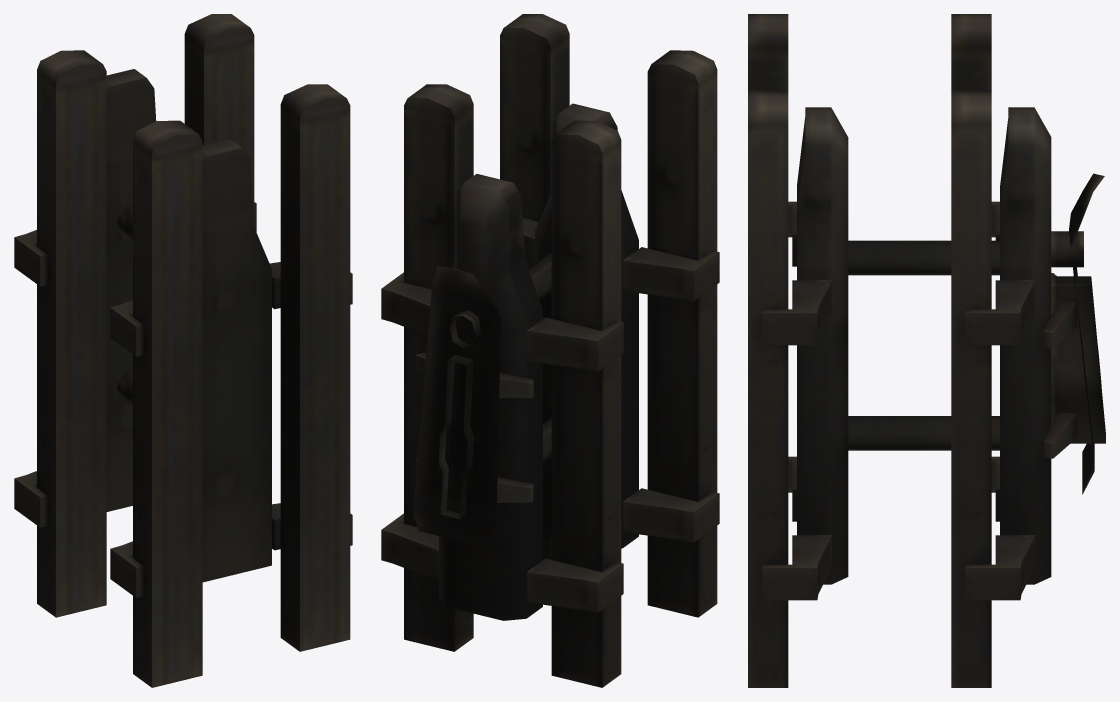
File: hellfire_launcher.fbx
3 renders of one model, left to right at view 1: azimuth 30°, elevation 25°; view 2: azimuth 150°, elevation 25°; view 3: azimuth 270°, elevation 25°, orthographic. The views are drawn at different scales.
Parts seen in each view (by area): view 1: body; view 2: body; view 3: body.
Boxes of the visible parts, x1,y1,x2,y2 form: body: (14,14,352,687); body: (381,14,719,687); body: (748,14,1105,687).
Bounding box in the file's own units: 0.3303 × 0.7982 × 0.4474.
